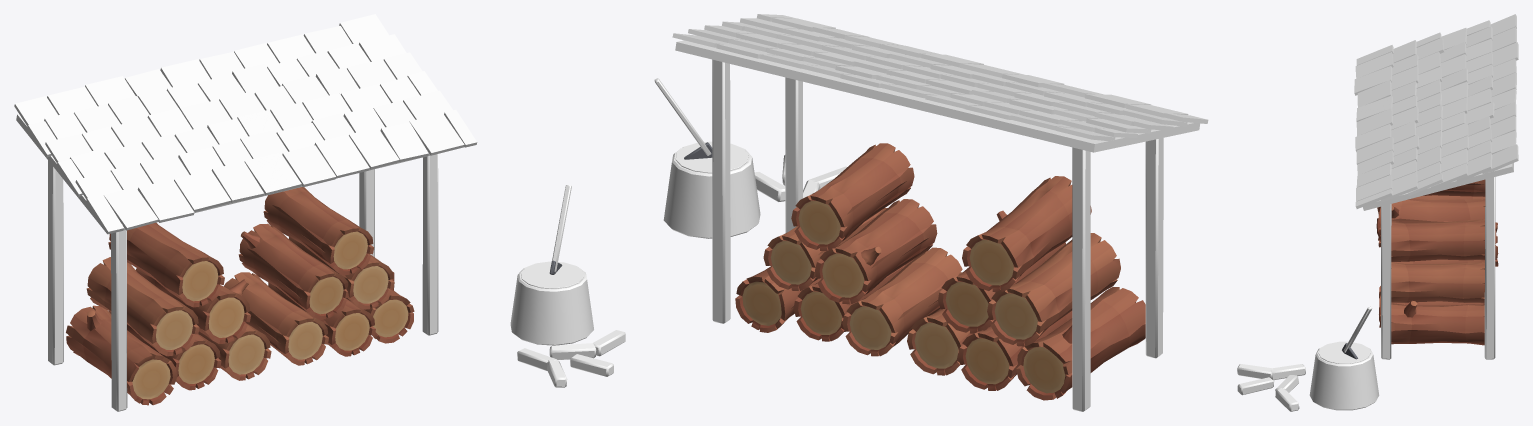
The model's file is holzlager.glb.
3 views of the same model, side by side, from view 1: azimuth 30°, elevation 25°; view 2: azimuth 150°, elevation 25°; view 3: azimuth 270°, elevation 25° (orthographic). The views are drawn at different scales.
Visible parts, largest first — view 1: holzlager_netz, Wood_Log_Stack2_netz; view 2: holzlager_netz, Wood_Log_Stack2_netz; view 3: holzlager_netz, Wood_Log_Stack2_netz.
Boxes of the visible parts, x1,y1,x2,y2 form: holzlager_netz: (14,14,625,411); Wood_Log_Stack2_netz: (66,222,271,405); holzlager_netz: (654,14,1208,411); Wood_Log_Stack2_netz: (907,176,1145,400); holzlager_netz: (1237,14,1518,411); Wood_Log_Stack2_netz: (1376,179,1498,266).
Size of what is drawn, in the model's own units: 4.35 by 2.23 by 2.71.
9 materials, 1 textured.
